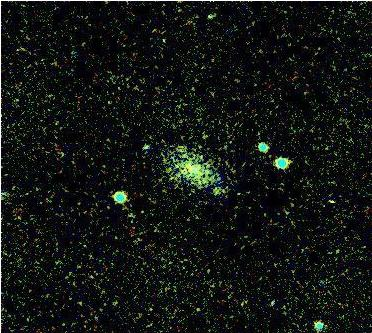star: (206, 175, 236, 205)
